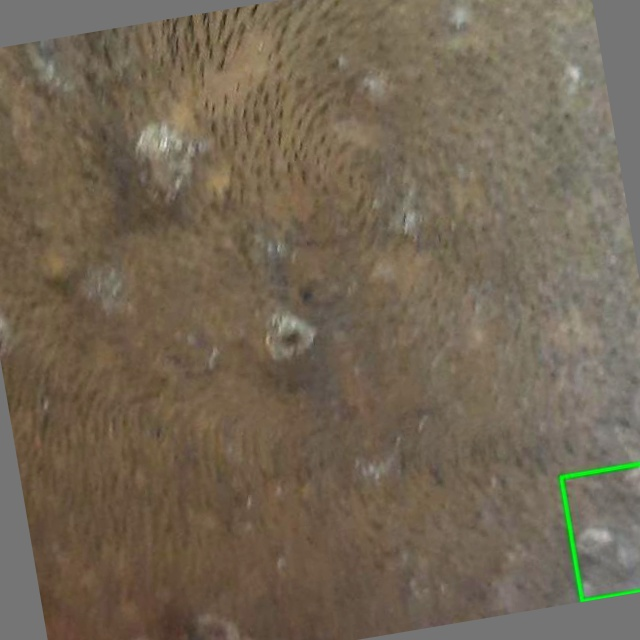Seborrheic Dermatitis: (561, 463, 639, 601)
